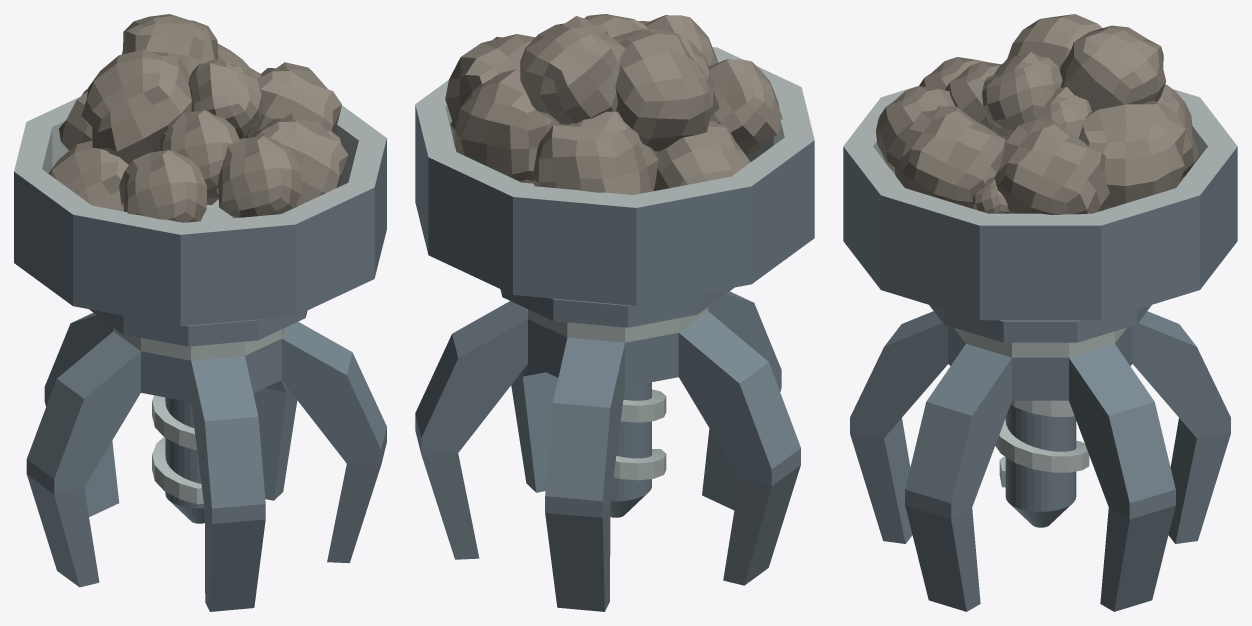
The model's file is Drill_Rocks 2.fbx.
3 views of the same model, side by side, from view 1: azimuth 30°, elevation 25°; view 2: azimuth 150°, elevation 25°; view 3: azimuth 270°, elevation 25° (orthographic). The views are drawn at different scales.
Parts seen in each view (by area): view 1: Miner, rock13, rock15, rock11, Rock8, rock12, Rock7, rock14, rock16, Rock9, Rock10; view 2: Miner, rock13, rock14, Rock10, Rock6, rock11, Rock9, Rock7, rock15, rock12; view 3: Miner, Rock7, Rock6, Rock8, rock14, rock12, rock15, rock13, rock16, rock17, Rock10, rock11 (+1 smaller).
Boxes of the visible parts, x1=… form: Miner: x1=14, y1=97, x2=386, y2=611; rock13: x1=81, y1=49, x2=191, y2=164; rock15: x1=216, y1=136, x2=301, y2=218; rock11: x1=119, y1=150, x2=206, y2=222; Rock8: x1=250, y1=113, x2=348, y2=206; rock12: x1=188, y1=59, x2=263, y2=140; Rock7: x1=255, y1=62, x2=341, y2=133; rock14: x1=122, y1=14, x2=217, y2=75; rock16: x1=156, y1=110, x2=239, y2=204; Rock9: x1=48, y1=140, x2=128, y2=211; Rock10: x1=59, y1=88, x2=92, y2=150; Miner: x1=415, y1=47, x2=814, y2=611; rock13: x1=612, y1=29, x2=719, y2=151; rock14: x1=520, y1=16, x2=625, y2=124; Rock10: x1=532, y1=111, x2=658, y2=194; Rock6: x1=450, y1=68, x2=559, y2=183; rock11: x1=707, y1=59, x2=782, y2=156; Rock9: x1=653, y1=121, x2=750, y2=191; Rock7: x1=445, y1=34, x2=534, y2=120; rock15: x1=645, y1=15, x2=717, y2=66; rock12: x1=584, y1=14, x2=643, y2=37; Miner: x1=843, y1=85, x2=1237, y2=611; Rock7: x1=994, y1=120, x2=1109, y2=214; Rock6: x1=1078, y1=101, x2=1185, y2=208; Rock8: x1=894, y1=106, x2=1006, y2=209; rock14: x1=1060, y1=25, x2=1166, y2=111; rock12: x1=982, y1=52, x2=1062, y2=135; rock15: x1=876, y1=86, x2=955, y2=170; rock13: x1=1004, y1=14, x2=1102, y2=70; rock16: x1=945, y1=61, x2=1010, y2=140; rock17: x1=1028, y1=86, x2=1092, y2=137; Rock10: x1=1157, y1=84, x2=1198, y2=177; rock11: x1=919, y1=57, x2=987, y2=89.
Size of the model in its own units: 518 by 787 by 539.
